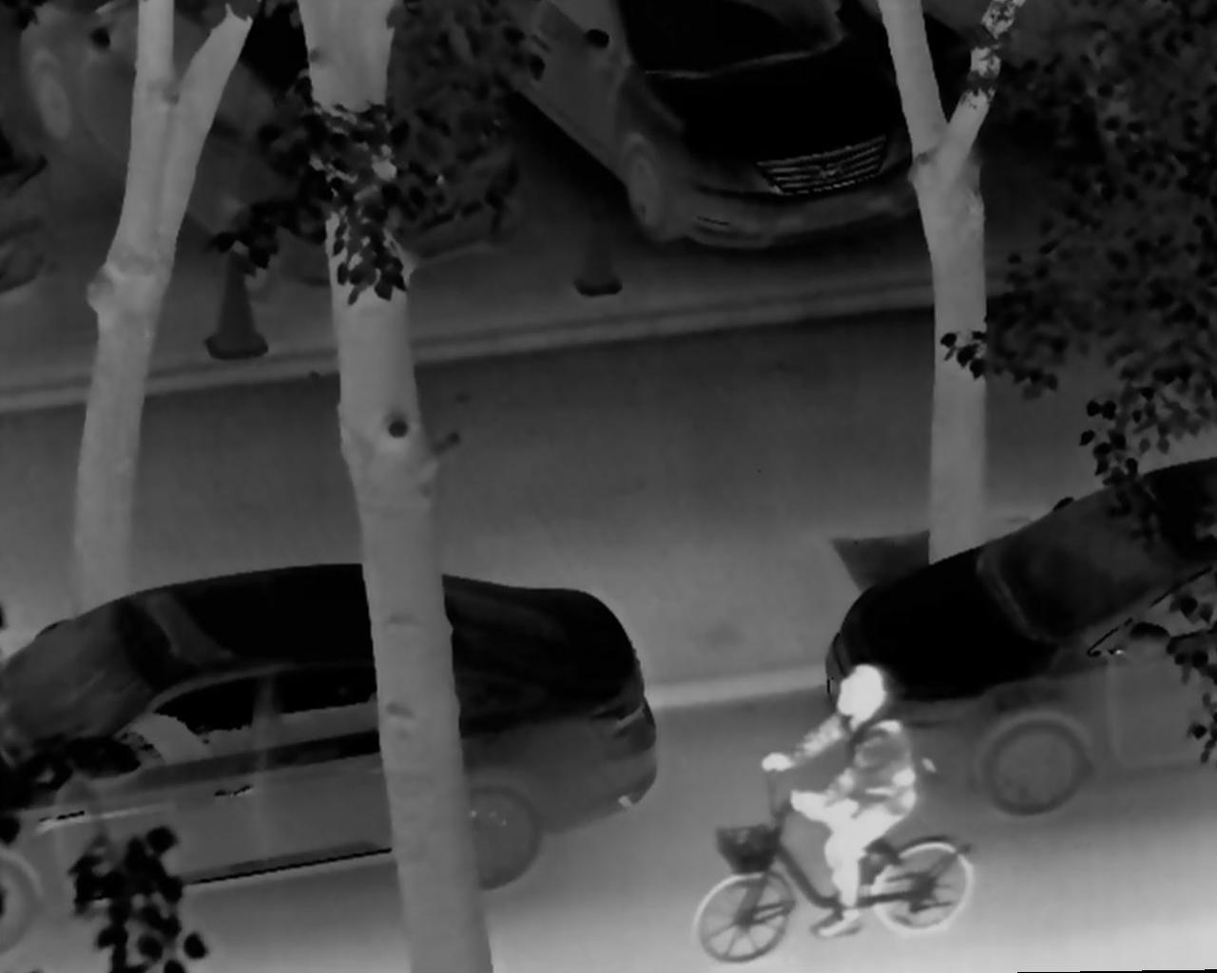person: (759, 665, 915, 942)
